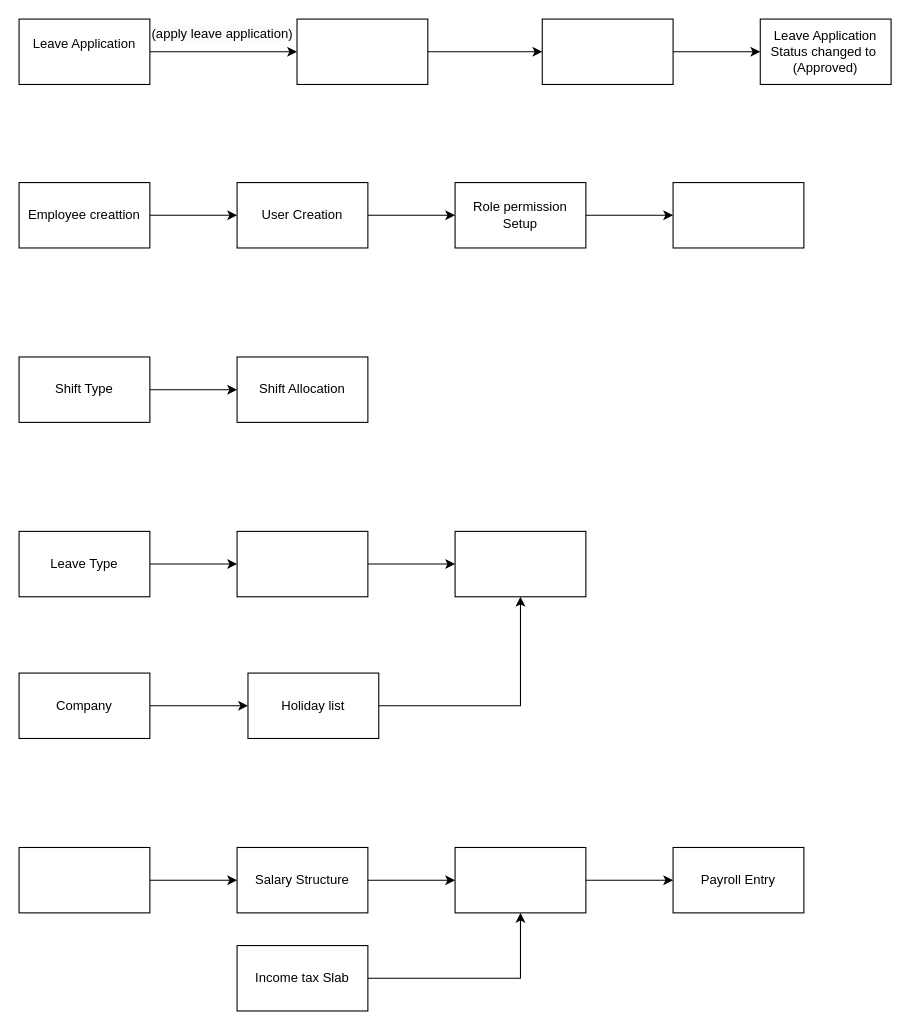
This 910x1030 diagram has some shape labels left out. Here are the shapes that lost their labels. From the top down, the centre of each, then its label:
At (x=362, y=51): "Manager Approval".
At (x=607, y=51): "Hr Approval".
At (x=738, y=214): "User Permission Setup".
At (x=302, y=563): "Leave Policy".
At (x=520, y=563): "Leave Policy Assignment".
At (x=84, y=879): "Salary component".
At (x=520, y=879): "Salary Structure Assignment".
